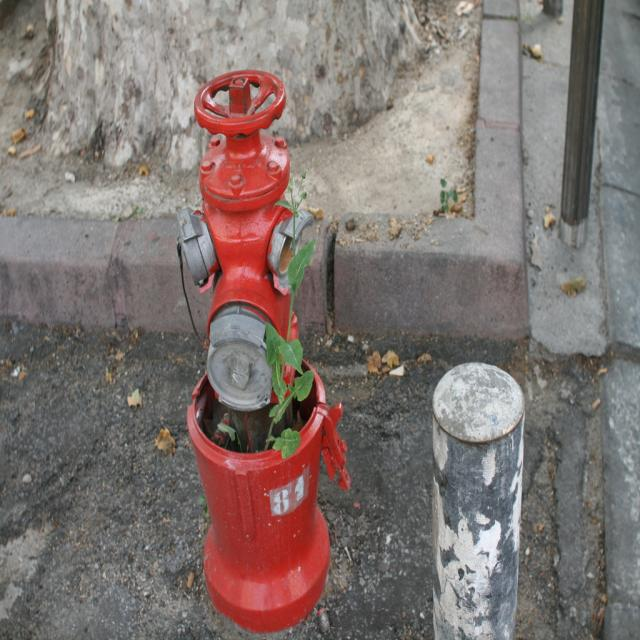fire_hydrant: (185, 68, 349, 635)
